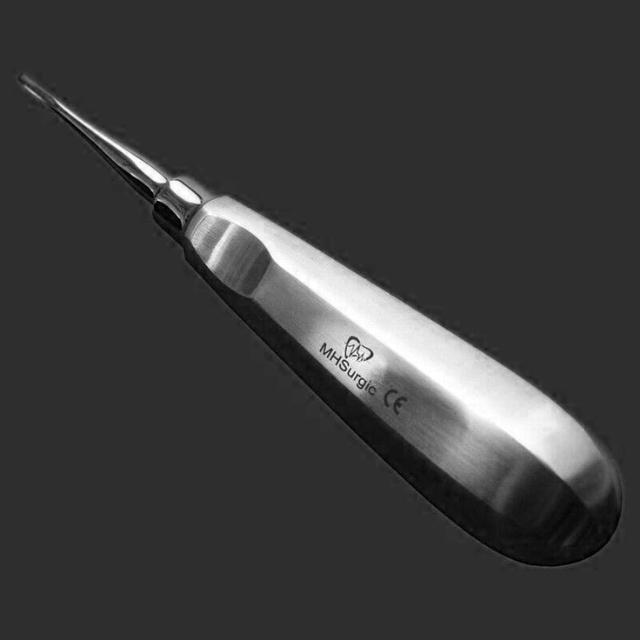botador: (16, 71, 627, 571)
